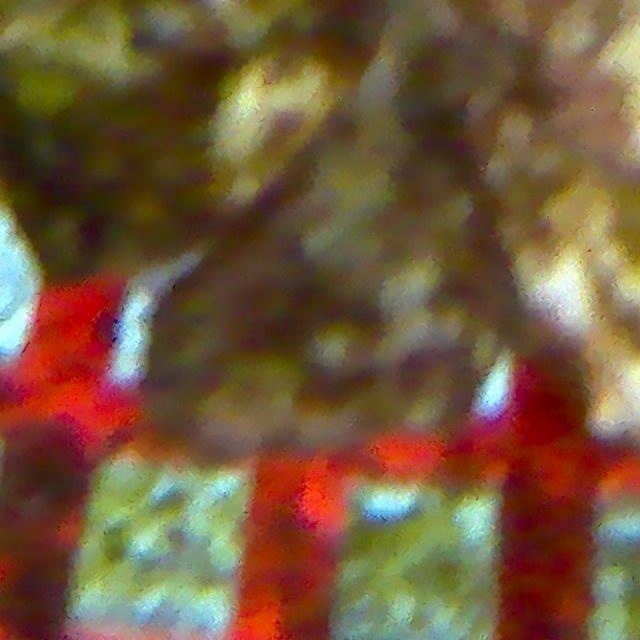SeaGrape: (117, 187, 170, 240), (81, 140, 131, 191)
